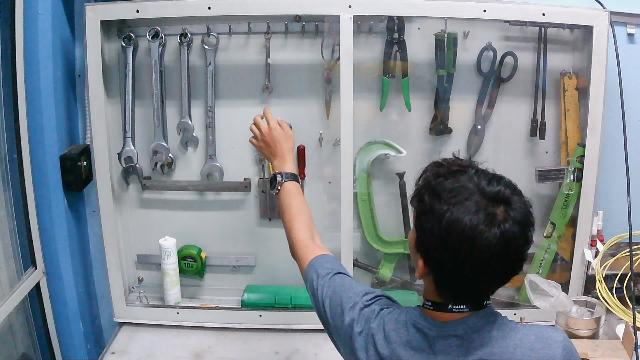kunci_pass_13: (245, 21, 299, 164)
